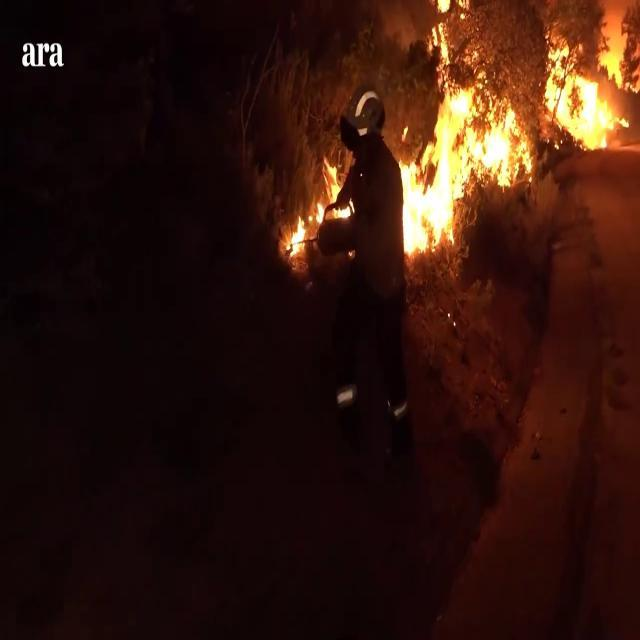Fire: (393, 2, 634, 252), (284, 152, 356, 264)
